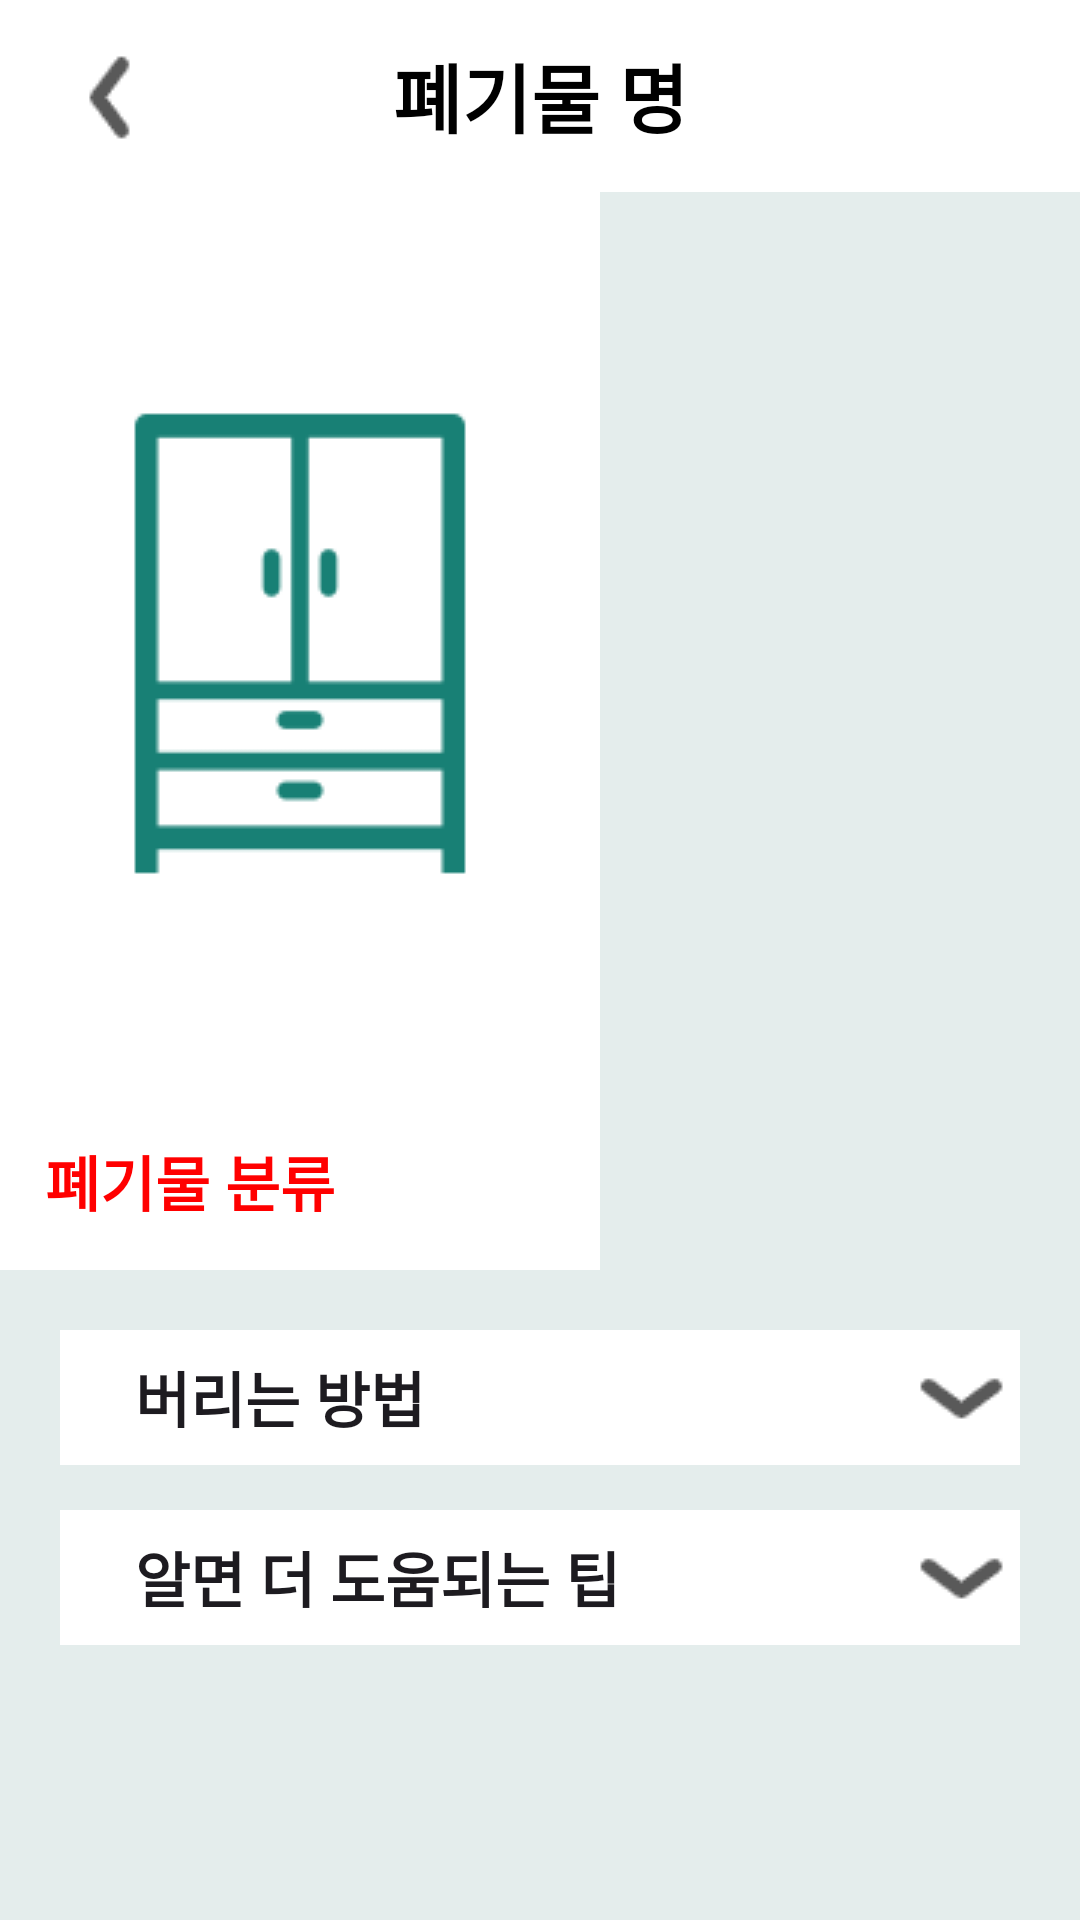

Locate icon controls on the screen. Image size 1080*1920, boxes as rect(x1, y1, x2, y2).
backkeymain: rect(89, 56, 130, 139)
